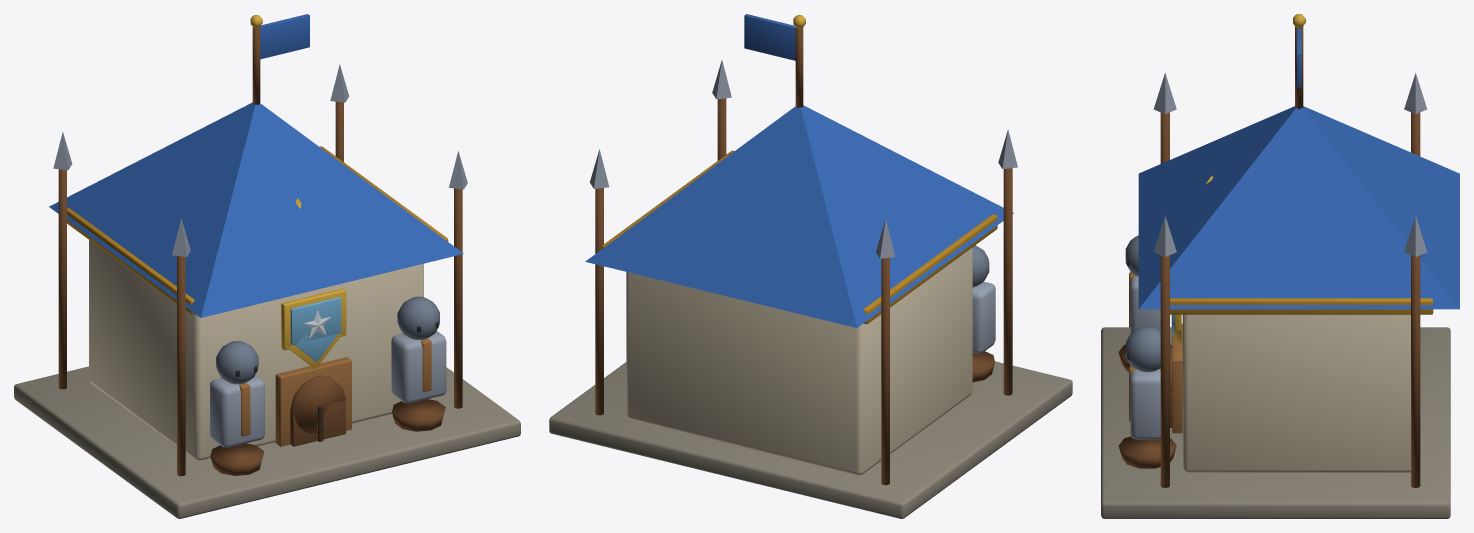
Rendered from k_camp_spear.glb.
3 renders of one model, left to right at view 1: azimuth 30°, elevation 25°; view 2: azimuth 150°, elevation 25°; view 3: azimuth 270°, elevation 25°, orthographic. The views are drawn at different scales.
Parts seen in each view (by area): view 1: SK_k_camp_spear; view 2: SK_k_camp_spear; view 3: SK_k_camp_spear.
Part boxes in pixels (box(x1,y1,x2,y2)): SK_k_camp_spear: box(14, 14, 520, 518); SK_k_camp_spear: box(549, 14, 1072, 518); SK_k_camp_spear: box(1101, 14, 1459, 518).
Bounding box in the file's own units: 3.6 × 3.95 × 3.08.
